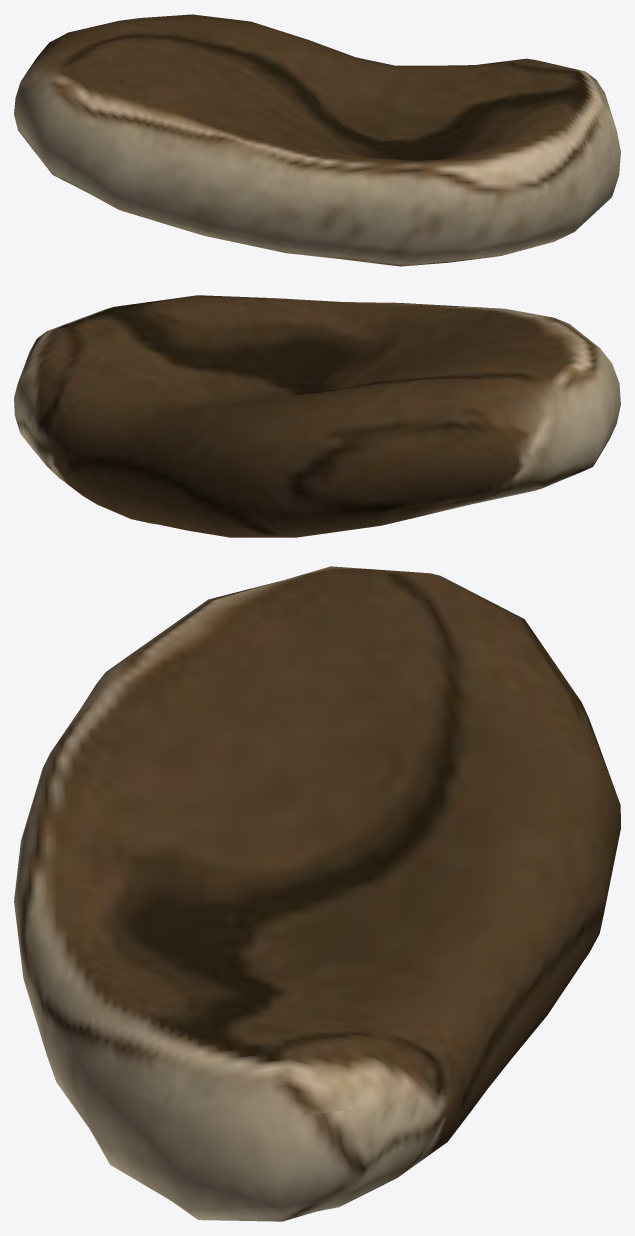
The model's file is Central_Tarsal.glb.
The picture shows the model from 3 angles, top to bottom: view 1: azimuth 30°, elevation 25°; view 2: azimuth 150°, elevation 25°; view 3: azimuth 270°, elevation 25°; orthographic projection. The views are drawn at different scales.
Visible parts, largest first — view 1: R_Bck_Central_Tarsal; view 2: R_Bck_Central_Tarsal; view 3: R_Bck_Central_Tarsal.
Part boxes in pixels (x1,y1,x2,y2): R_Bck_Central_Tarsal: (14,14,620,266); R_Bck_Central_Tarsal: (14,295,620,537); R_Bck_Central_Tarsal: (14,566,620,1221).
Bounding box in the file's own units: 0.0521 × 0.0202 × 0.0337.
1 material, 1 textured.
